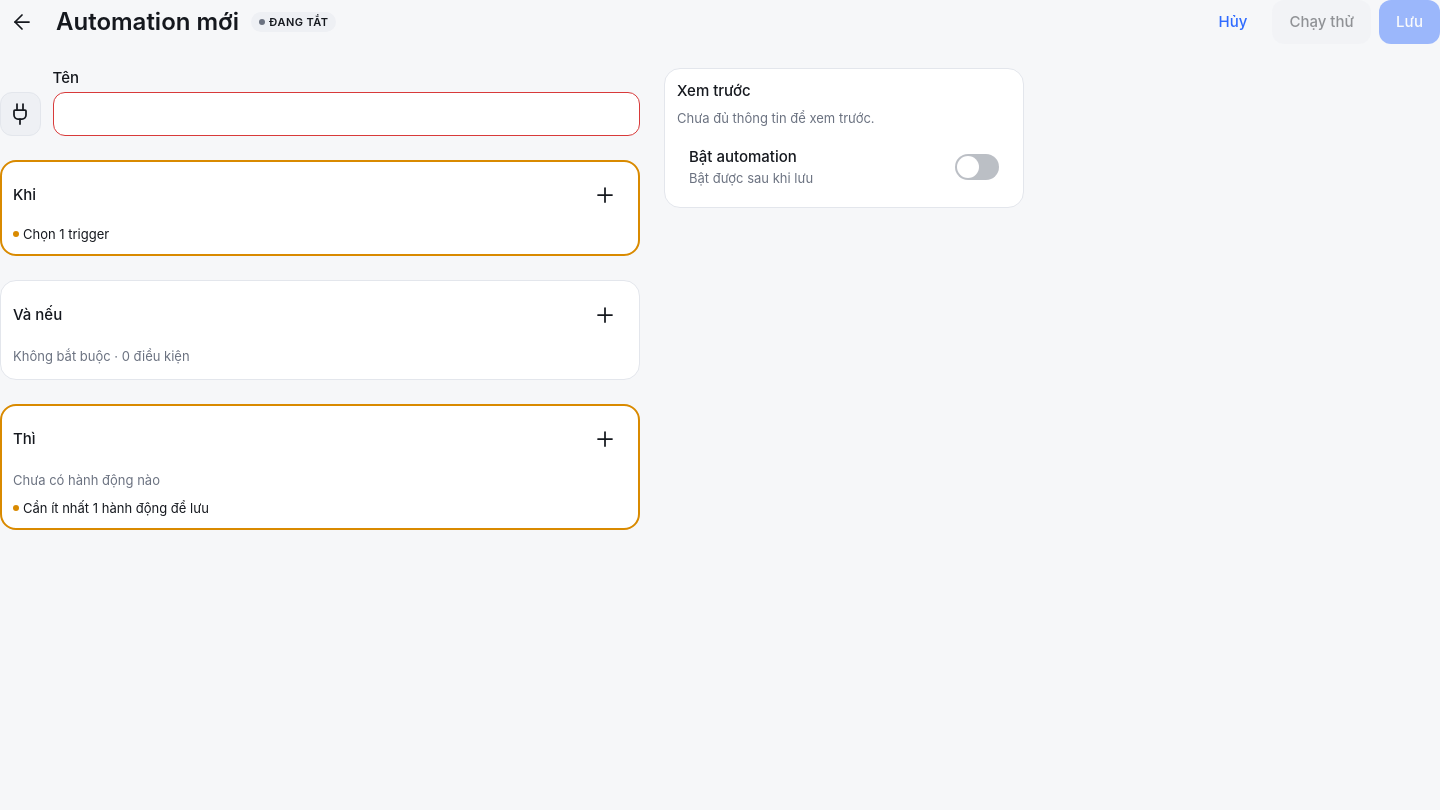
Test: RuleEditorScreen › filters comparison operators in ConditionSheet for binary property
Click the button named "Thêm Và nếu" at (605, 315), box [583,293,627,337]
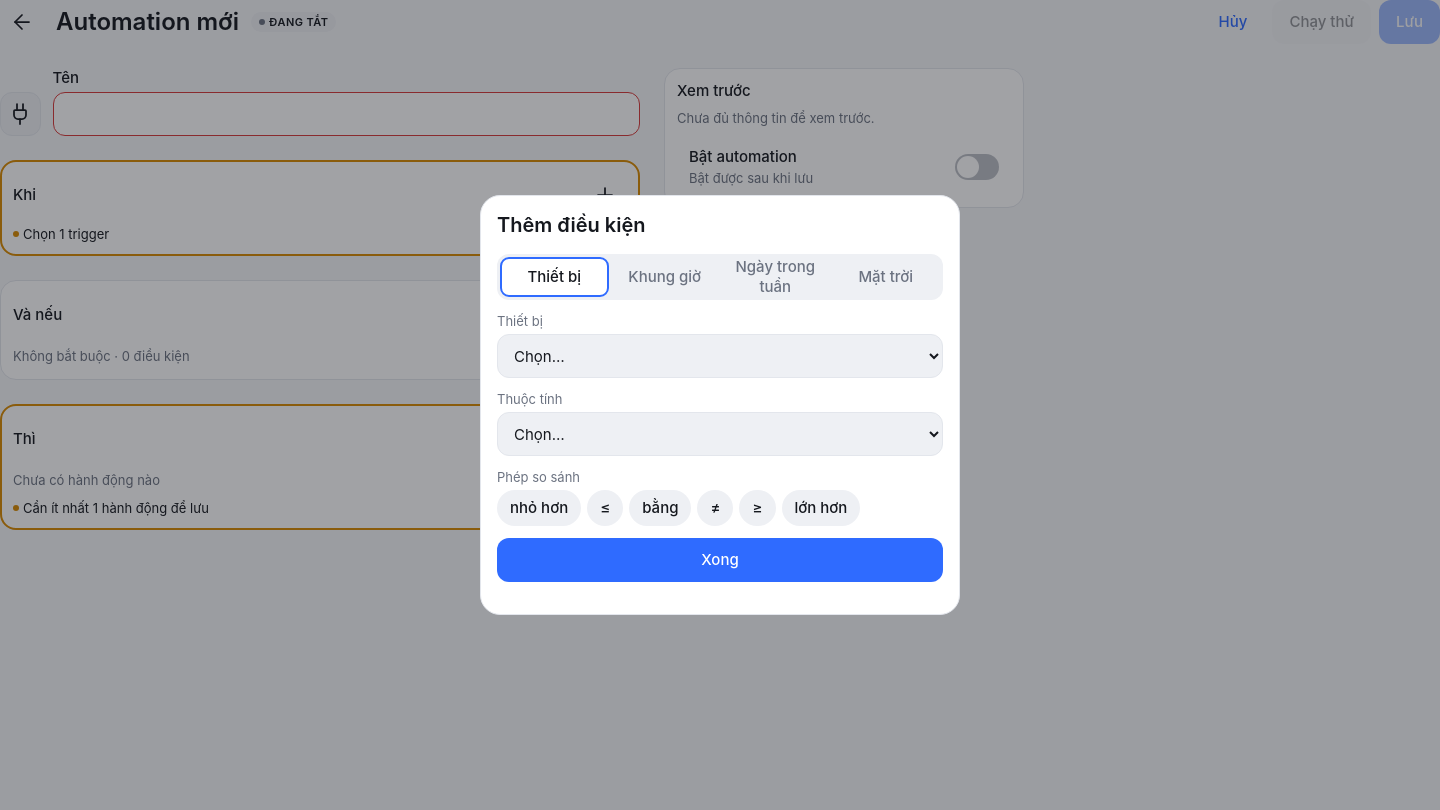
Select "Ổ cắm máy giặt" in the dropdown labelled "Thiết bị" at (720, 356), box [497,334,943,378]
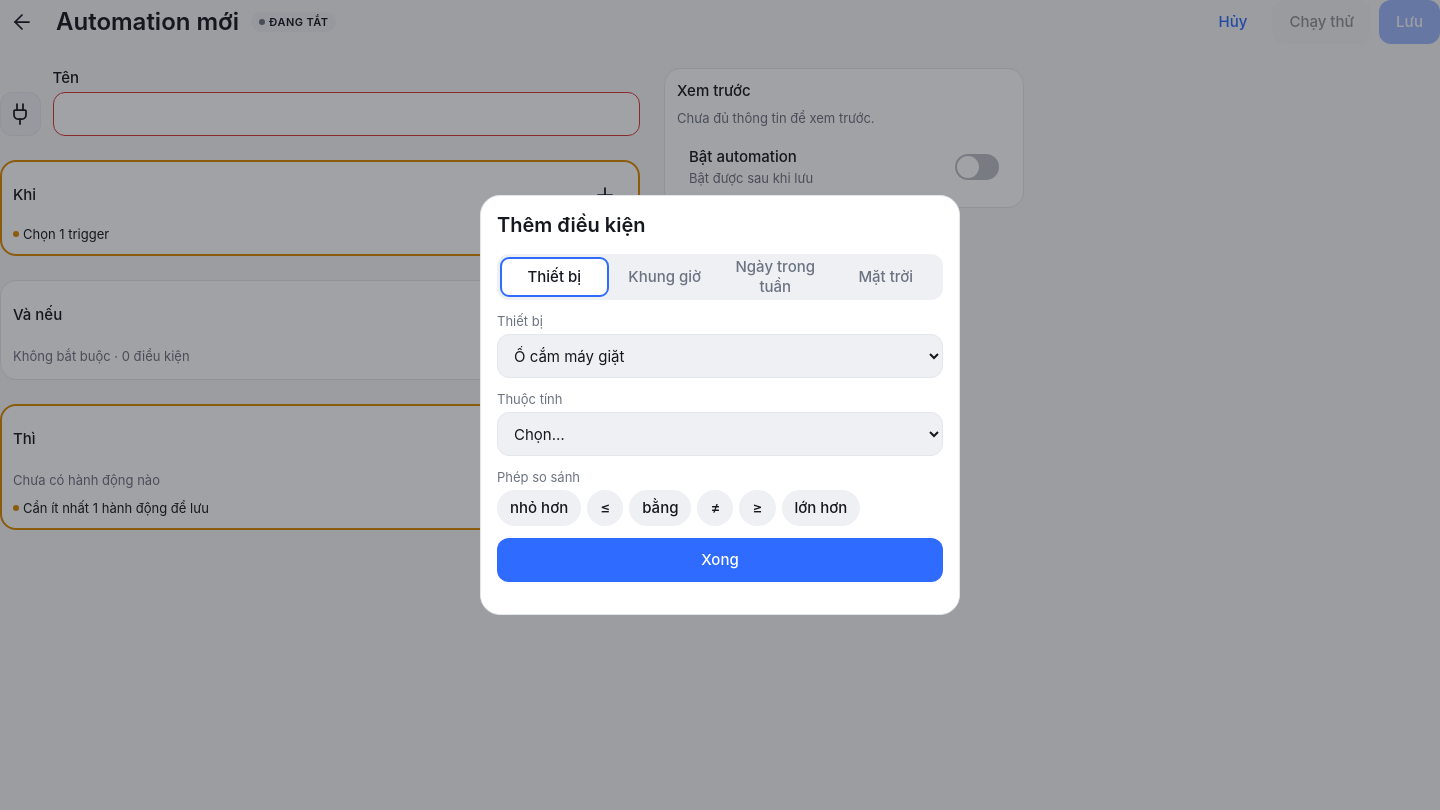
Select "Trạng thái" in the dropdown labelled "Thuộc tính" at (720, 434), box [497,412,943,456]
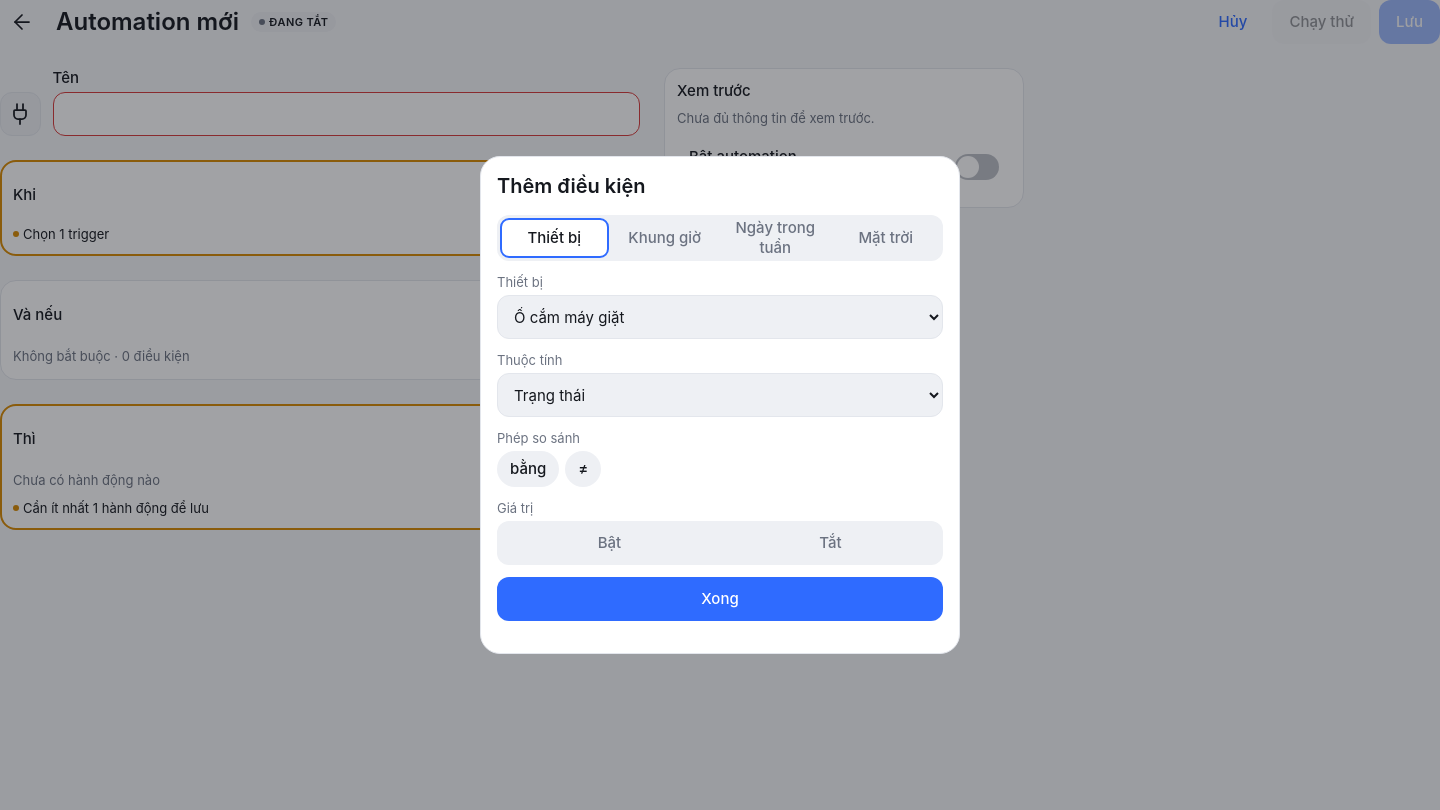
expect the button "bằng" is shown: met, box [497,451,559,487]
expect the button "nhỏ hơn" is gone: met
expect the button "lớn hơn" is gone: met
